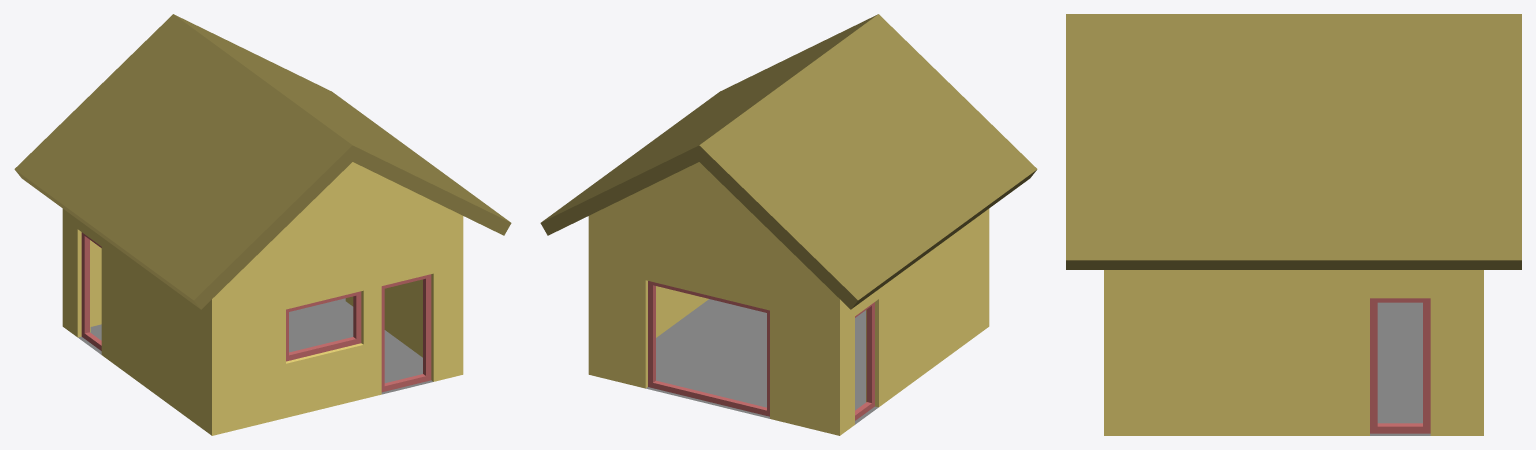
The model's file is result.glb.
3 renders of one model, left to right at view 1: azimuth 30°, elevation 25°; view 2: azimuth 150°, elevation 25°; view 3: azimuth 270°, elevation 25°, orthographic. The views are drawn at different scales.
Visible parts, largest first — view 1: 4b41ff61-02ce-4d85-999e-a94358afc39b__undefined (×2), 0947e160-b25a-46fd-ab76-963aebe9894c__undefined, 69ad437c-cf4f-4cfc-a2bb-c3464df0ce5f__Plane_6, 54592a80-34c1-4244-8b46-a2accd25a1e7__Box, fa472cff-8e11-4289-a66f-9bb7b55f7e36__Box_3, b0f2c48e-e457-49af-934c-b09c36dd9db6__Box_12; view 2: 4b41ff61-02ce-4d85-999e-a94358afc39b__undefined (×2), 0947e160-b25a-46fd-ab76-963aebe9894c__undefined, 69ad437c-cf4f-4cfc-a2bb-c3464df0ce5f__Plane_6, de3d366d-1f66-43f9-bd9d-875ec945e893__Box_9, b0f2c48e-e457-49af-934c-b09c36dd9db6__Box_12; view 3: 4b41ff61-02ce-4d85-999e-a94358afc39b__undefined, 0947e160-b25a-46fd-ab76-963aebe9894c__undefined, 69ad437c-cf4f-4cfc-a2bb-c3464df0ce5f__Plane_6, e638fc9b-8c68-4092-a855-9f7d34226c20__Box_15.
Boxes of the visible parts, x1=… form: 4b41ff61-02ce-4d85-999e-a94358afc39b__undefined (×2): x1=14, y1=14, x2=511, y2=309; 0947e160-b25a-46fd-ab76-963aebe9894c__undefined: x1=62, y1=162, x2=463, y2=435; 69ad437c-cf4f-4cfc-a2bb-c3464df0ce5f__Plane_6: x1=78, y1=298, x2=432, y2=394; 54592a80-34c1-4244-8b46-a2accd25a1e7__Box: x1=381, y1=274, x2=431, y2=392; fa472cff-8e11-4289-a66f-9bb7b55f7e36__Box_3: x1=286, y1=291, x2=361, y2=361; b0f2c48e-e457-49af-934c-b09c36dd9db6__Box_12: x1=81, y1=232, x2=101, y2=350; 4b41ff61-02ce-4d85-999e-a94358afc39b__undefined (×2): x1=540, y1=14, x2=1037, y2=309; 0947e160-b25a-46fd-ab76-963aebe9894c__undefined: x1=588, y1=162, x2=989, y2=435; 69ad437c-cf4f-4cfc-a2bb-c3464df0ce5f__Plane_6: x1=646, y1=299, x2=878, y2=424; de3d366d-1f66-43f9-bd9d-875ec945e893__Box_9: x1=648, y1=281, x2=769, y2=416; b0f2c48e-e457-49af-934c-b09c36dd9db6__Box_12: x1=855, y1=302, x2=874, y2=420; 4b41ff61-02ce-4d85-999e-a94358afc39b__undefined: x1=1066, y1=14, x2=1521, y2=269; 0947e160-b25a-46fd-ab76-963aebe9894c__undefined: x1=1104, y1=270, x2=1483, y2=435; 69ad437c-cf4f-4cfc-a2bb-c3464df0ce5f__Plane_6: x1=1370, y1=302, x2=1430, y2=435; e638fc9b-8c68-4092-a855-9f7d34226c20__Box_15: x1=1370, y1=298, x2=1430, y2=433.
Size of the model in its own units: 614 by 500 by 600.
